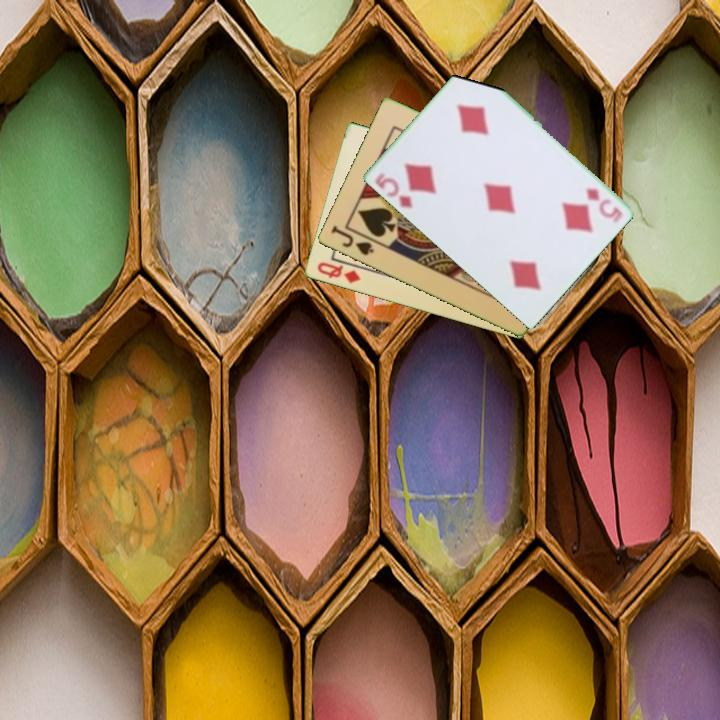5d: (371, 169, 415, 211), (582, 185, 625, 225)
Js: (327, 222, 377, 258)
Qd: (313, 259, 363, 286)
